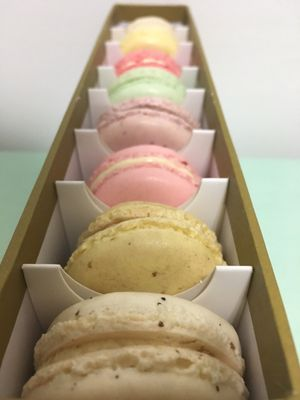salad: (23, 293, 248, 400)
